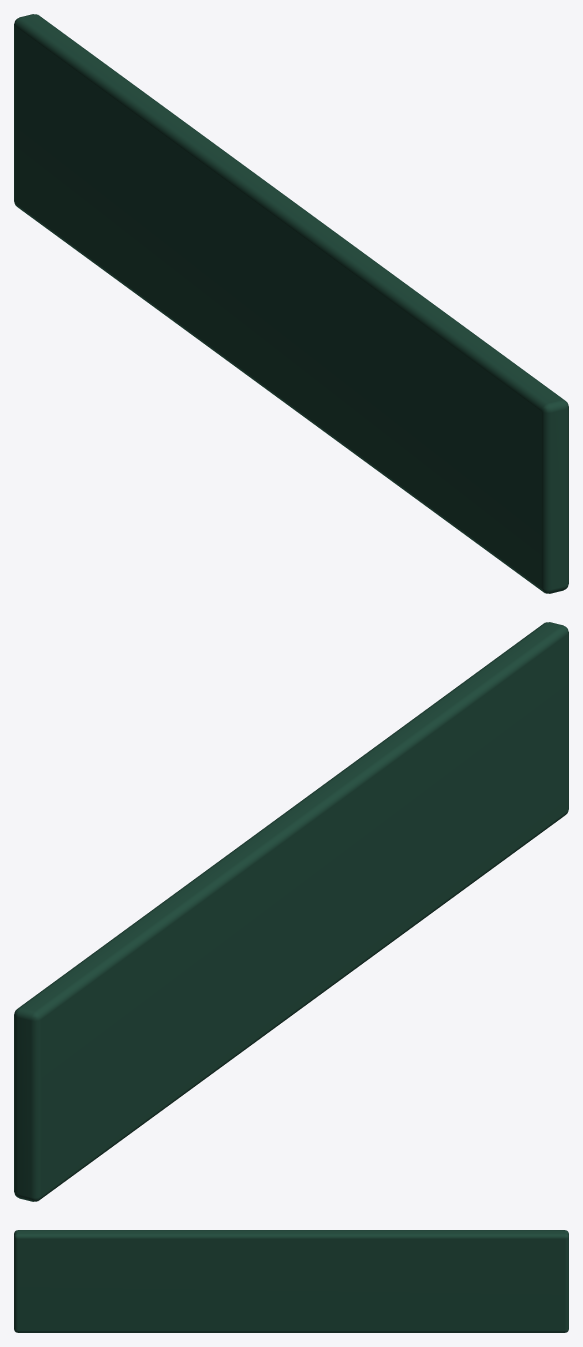
The model's file is SM_EG_Yard_wayfinding_a3cb30dcea.fbx.
The picture shows the model from 3 angles, top to bottom: view 1: azimuth 30°, elevation 25°; view 2: azimuth 150°, elevation 25°; view 3: azimuth 270°, elevation 25°; orthographic projection. The views are drawn at different scales.
Parts seen in each view (by area): view 1: SM_EG_Yard_wayfinding_a3cb30dcea; view 2: SM_EG_Yard_wayfinding_a3cb30dcea; view 3: SM_EG_Yard_wayfinding_a3cb30dcea.
Part boxes in pixels (x1,y1,x2,y2): SM_EG_Yard_wayfinding_a3cb30dcea: (14, 14, 568, 593); SM_EG_Yard_wayfinding_a3cb30dcea: (14, 622, 568, 1201); SM_EG_Yard_wayfinding_a3cb30dcea: (14, 1230, 568, 1332).
Bounding box in the file's own units: 8 × 280 × 55.
